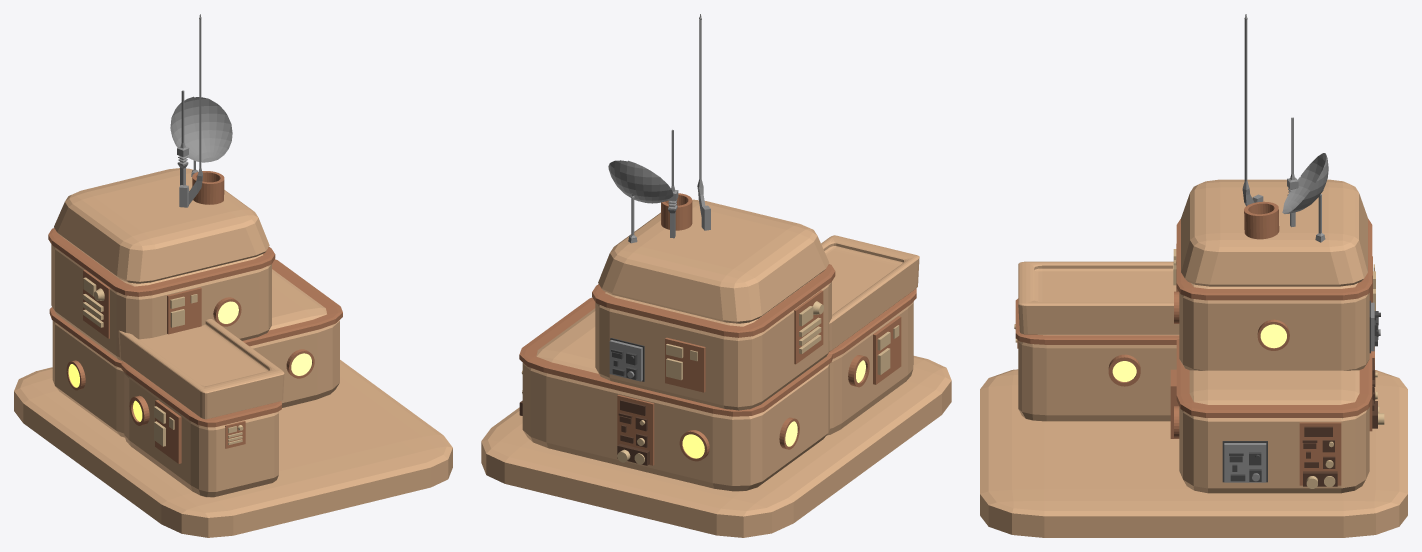
Rendered from nomad_building_29.fbx.
3 views of the same model, side by side, from view 1: azimuth 30°, elevation 25°; view 2: azimuth 150°, elevation 25°; view 3: azimuth 270°, elevation 25° (orthographic). The views are drawn at different scales.
Visible parts, largest first — view 1: B29_M_Foundation_square, B29_M_R10_square_roof_defualt, B29_M_Blk00_rect_base, B29_M_R01_roof_simple, B29_M_Blk10_base, B29_M_Blk01_rectangular_unit, B29_M_B10_Band_square_diameter_default, B29_M_Dish0_AntennaDish_Reflector, B29_M_B00_Band_square_diameter_default, B29_M_B01_Band_square_diameter_default, B29_M_Panel1_PanelBox_Body, B29_M_Panel6_PanelBox_Body (+4 smaller); view 2: B29_M_Foundation_square, B29_M_Blk00_rect_base, B29_M_R10_square_roof_defualt, B29_M_Blk10_base, B29_M_R01_roof_simple, B29_M_Blk01_rectangular_unit, B29_M_B00_Band_square_diameter_default, B29_M_B10_Band_square_diameter_default, B29_M_Dish0_AntennaDish_Reflector, B29_M_Panel3_PanelBox_Body, B29_M_Panel5_MeterBox_Face002, B29_M_Panel6_PanelBox_Body (+5 smaller); view 3: B29_M_Foundation_square, B29_M_R10_square_roof_defualt, B29_M_Blk00_rect_base, B29_M_Blk10_base, B29_M_R01_roof_simple, B29_M_Blk01_rectangular_unit, B29_M_B00_Band_square_diameter_default, B29_M_B10_Band_square_diameter_default, B29_M_B01_Band_square_diameter_default, B29_M_Panel7_MeterBox_Face002, B29_M_Dish0_AntennaDish_Reflector, B29_M_Stack0_TowerBody_StackWide (+3 smaller).
Part boxes in pixels (box(x1,y1,x2,y2)): B29_M_Foundation_square: box(14, 360, 452, 537); B29_M_R10_square_roof_defualt: box(54, 168, 269, 283); B29_M_Blk00_rect_base: box(52, 269, 339, 437); B29_M_R01_roof_simple: box(118, 319, 284, 419); B29_M_Blk10_base: box(51, 239, 271, 361); B29_M_Blk01_rectangular_unit: box(124, 372, 278, 497); B29_M_B10_Band_square_diameter_default: box(48, 228, 275, 296); B29_M_Dish0_AntennaDish_Reflector: box(170, 96, 232, 162); B29_M_B00_Band_square_diameter_default: box(49, 259, 342, 367); B29_M_B01_Band_square_diameter_default: box(121, 361, 281, 427); B29_M_Panel1_PanelBox_Body: box(167, 287, 201, 334); B29_M_Panel6_PanelBox_Body: box(155, 400, 181, 463); B29_M_Foundation_square: box(481, 356, 951, 537); B29_M_Blk00_rect_base: box(522, 308, 829, 491); B29_M_R10_square_roof_defualt: box(598, 199, 829, 323); B29_M_Blk10_base: box(595, 275, 831, 410); B29_M_R01_roof_simple: box(821, 235, 919, 351); B29_M_Blk01_rectangular_unit: box(826, 302, 913, 435); B29_M_B00_Band_square_diameter_default: box(519, 297, 832, 416); B29_M_B10_Band_square_diameter_default: box(592, 264, 835, 337); B29_M_Dish0_AntennaDish_Reflector: box(608, 160, 673, 203); B29_M_Panel3_PanelBox_Body: box(665, 337, 705, 392); B29_M_Panel5_MeterBox_Face002: box(617, 394, 654, 465); B29_M_Panel6_PanelBox_Body: box(873, 316, 901, 384); B29_M_Foundation_square: box(980, 369, 1407, 537); B29_M_R10_square_roof_defualt: box(1181, 179, 1367, 286); B29_M_Blk00_rect_base: box(1179, 370, 1369, 493); B29_M_Blk10_base: box(1179, 283, 1369, 370); B29_M_R01_roof_simple: box(1018, 261, 1179, 334); B29_M_Blk01_rectangular_unit: box(1018, 334, 1178, 421); B29_M_B00_Band_square_diameter_default: box(1176, 339, 1372, 417); B29_M_B10_Band_square_diameter_default: box(1176, 218, 1372, 300); B29_M_B01_Band_square_diameter_default: box(1015, 298, 1179, 344); B29_M_Panel7_MeterBox_Face002: box(1299, 422, 1341, 485); B29_M_Dish0_AntennaDish_Reflector: box(1282, 153, 1328, 213); B29_M_Stack0_TowerBody_StackWide: box(1244, 201, 1279, 239).
Size of the model in its own units: 440 by 616 by 532.
